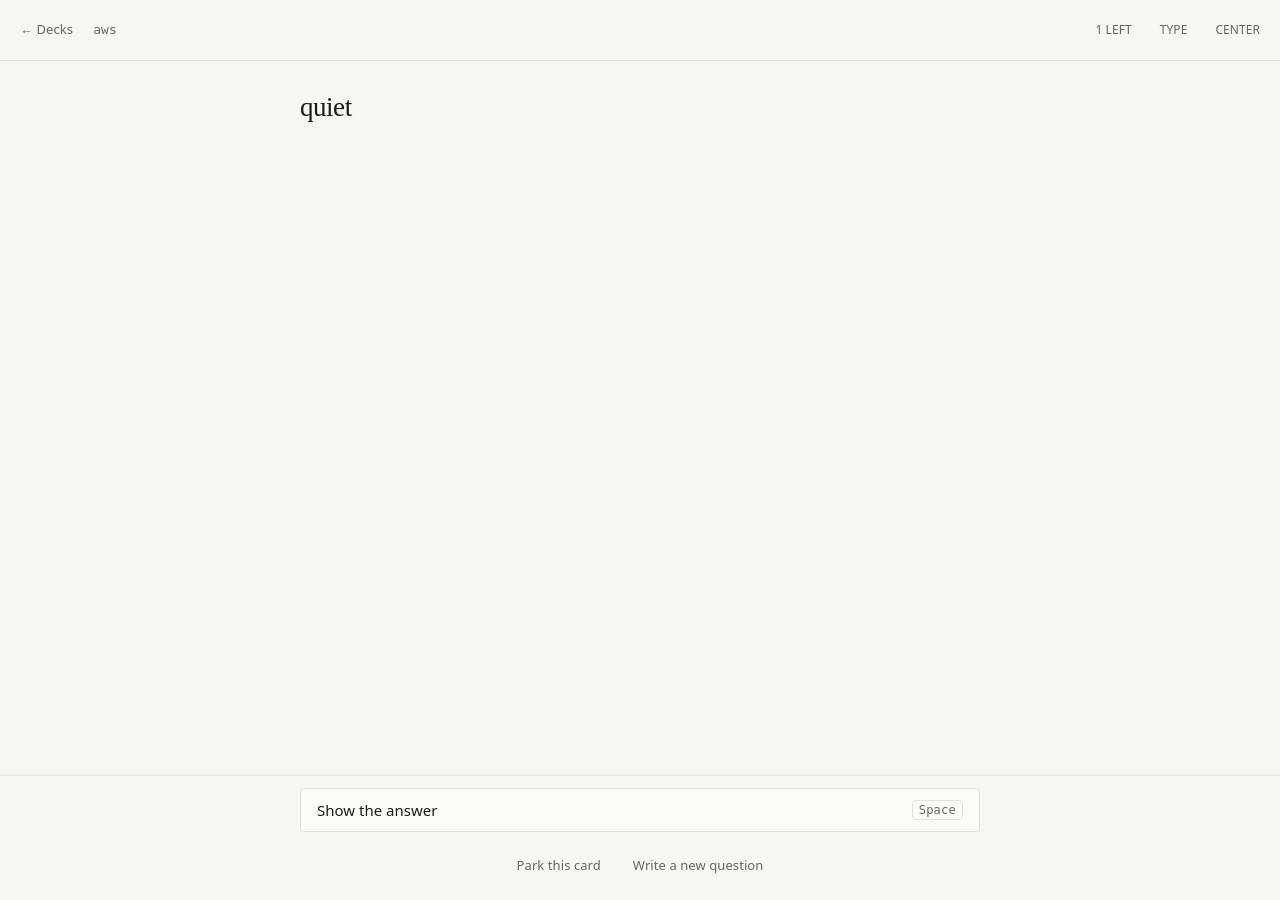
Test: ReviewSession playing a card's sounds › draws Replay only on a side that has a sound
The image size is (1280, 900).
Expected: the field with class "cm-content" is shown, [300,92,352,122]
Expected: the button "Replay" is not shown
Click the button "Show the answer Space".
click(377, 810)  # box [300,788,980,832]
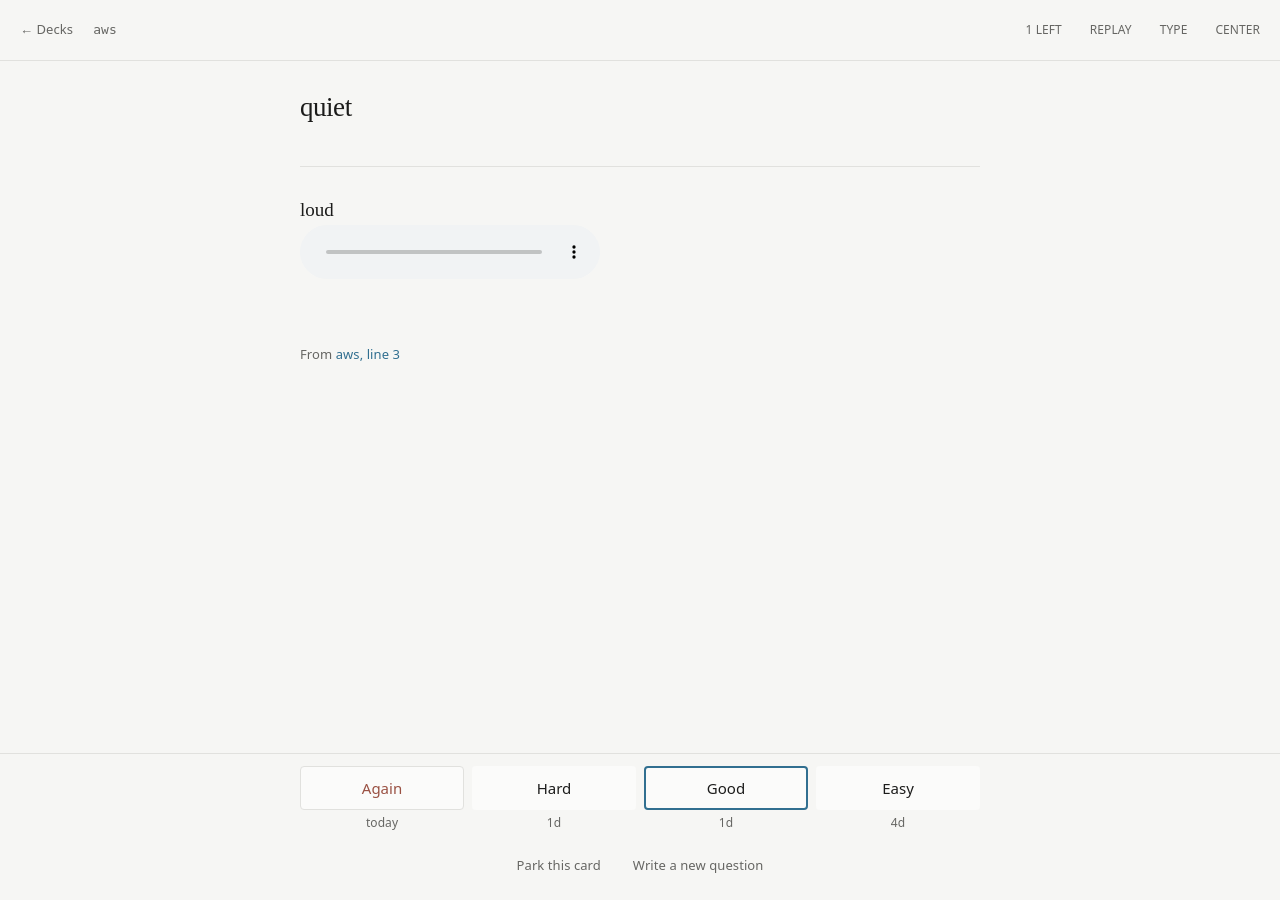
Expected: the button "Replay" is shown, [1082,8,1140,52]
